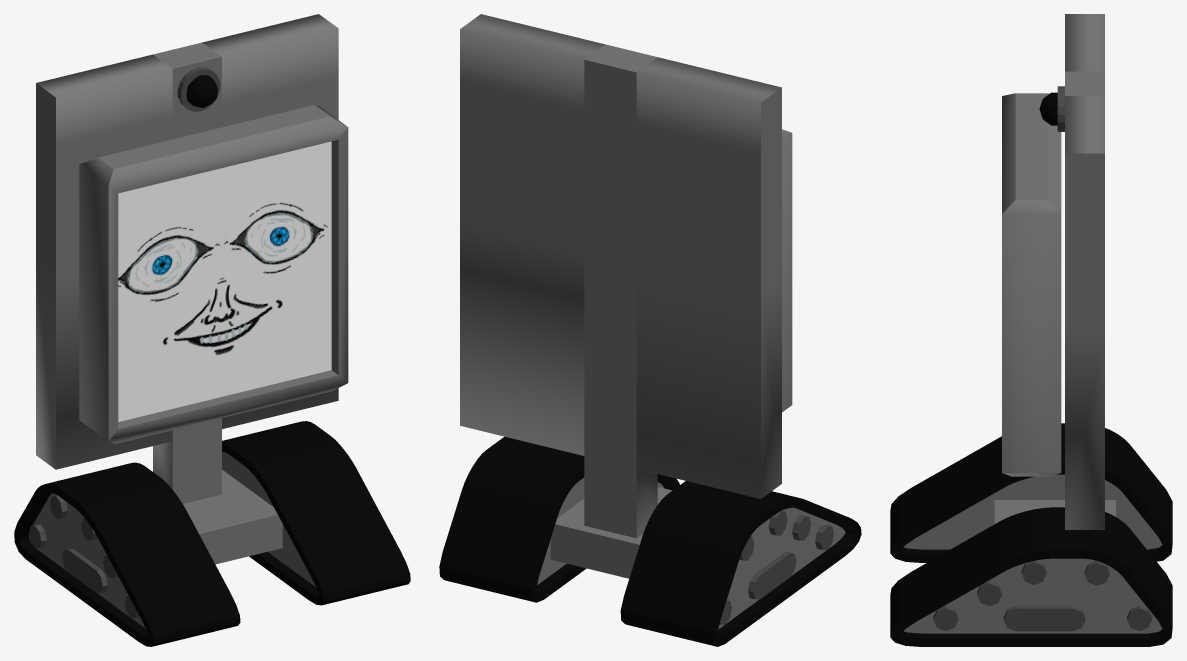
Rendered from Enemy.fbx.
3 renders of one model, left to right at view 1: azimuth 30°, elevation 25°; view 2: azimuth 150°, elevation 25°; view 3: azimuth 270°, elevation 25°, orthographic. The views are drawn at different scales.
Parts seen in each view (by area): view 1: EnemyBody; view 2: EnemyBody; view 3: EnemyBody.
Boxes of the visible parts, left/top/right/bottom form: EnemyBody: left=14, top=14, right=410, bottom=646; EnemyBody: left=439, top=14, right=861, bottom=646; EnemyBody: left=890, top=14, right=1172, bottom=646.
Size of the model in its own units: 133 by 222 by 114.
